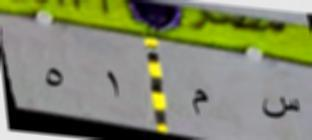1: (99, 61, 125, 104)
5: (42, 55, 65, 96)
meem: (183, 82, 214, 118)
seen: (257, 90, 303, 124)
